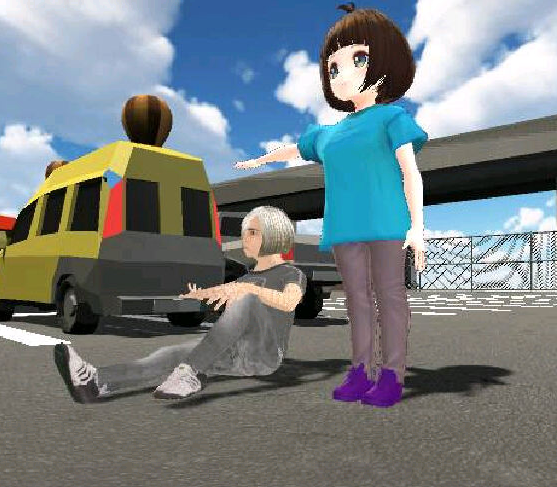doubleP_left: (51, 6, 428, 409)
